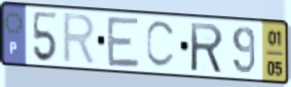5: (30, 9, 59, 64)
9: (230, 24, 257, 77)
C: (145, 19, 178, 71)
E: (105, 14, 142, 71)
R: (60, 11, 98, 68), (188, 20, 226, 75)
